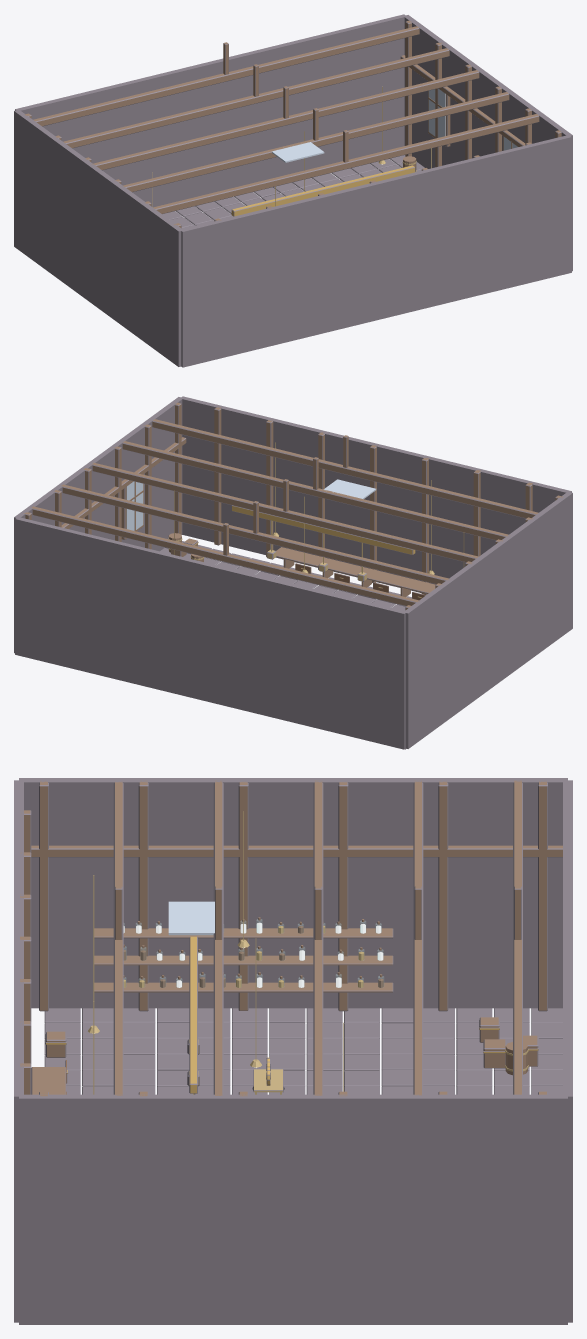
File: Workshop_Room.fbx
3 views of the same model, one above another, from view 1: azimuth 30°, elevation 25°; view 2: azimuth 150°, elevation 25°; view 3: azimuth 270°, elevation 25° (orthographic). The views are drawn at different scales.
Parts seen in each view (by area): view 1: Workshop_Room; view 2: Workshop_Room; view 3: Workshop_Room.
Boxes of the visible parts, x1,y1,x2,y2 form: Workshop_Room: [14, 14, 572, 367]; Workshop_Room: [14, 396, 572, 749]; Workshop_Room: [14, 778, 572, 1324].
Bounding box in the file's own units: 30.4 × 12.36 × 22.4.
